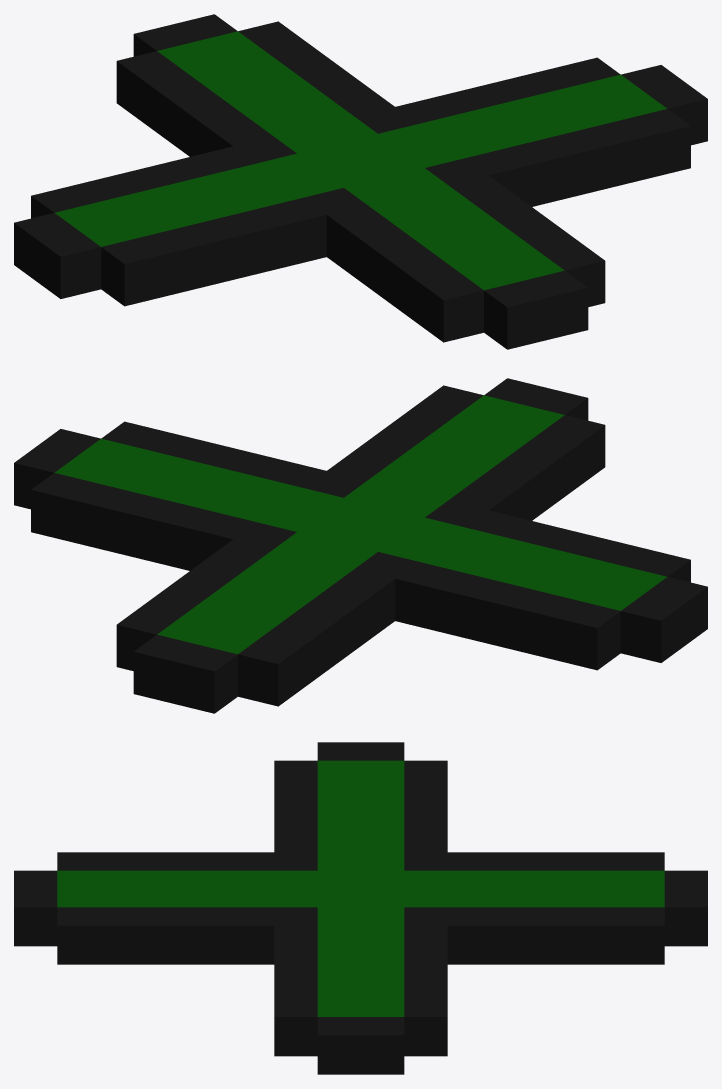
File: enemy1-2.obj
3 renders of one model, top to bottom at view 1: azimuth 30°, elevation 25°; view 2: azimuth 150°, elevation 25°; view 3: azimuth 270°, elevation 25°, orthographic. The views are drawn at different scales.
Size of the model in its own units: 16 by 1 by 16.
1 material, 1 textured.
